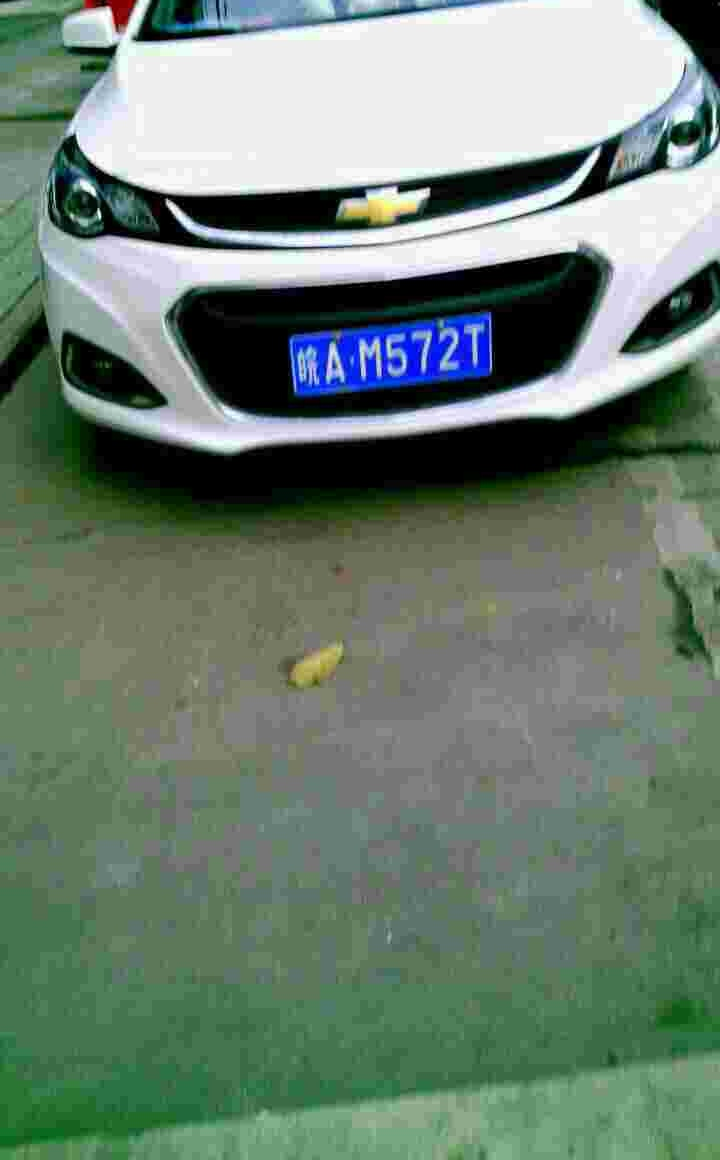plate: (291, 310, 498, 401)
